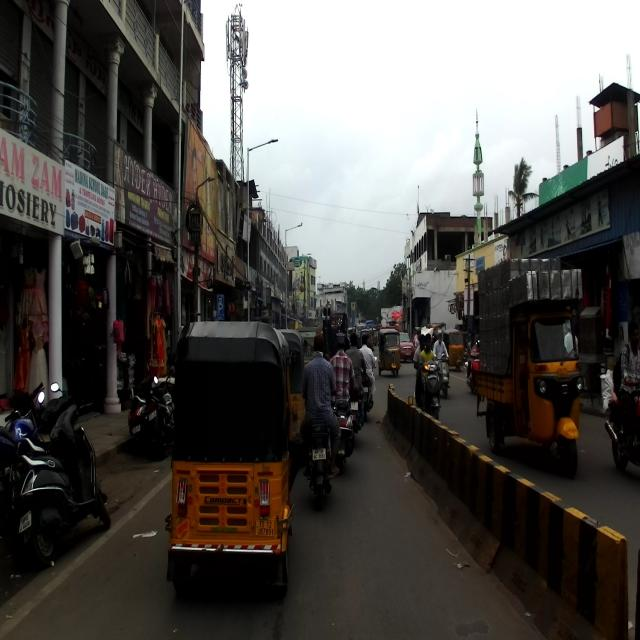autorickshaw: (163, 320, 297, 606), (475, 252, 584, 478)
motorcycle: (302, 403, 340, 511), (604, 380, 640, 470), (146, 373, 175, 458)
scooter: (13, 402, 111, 567), (128, 374, 159, 454), (415, 361, 442, 419)
